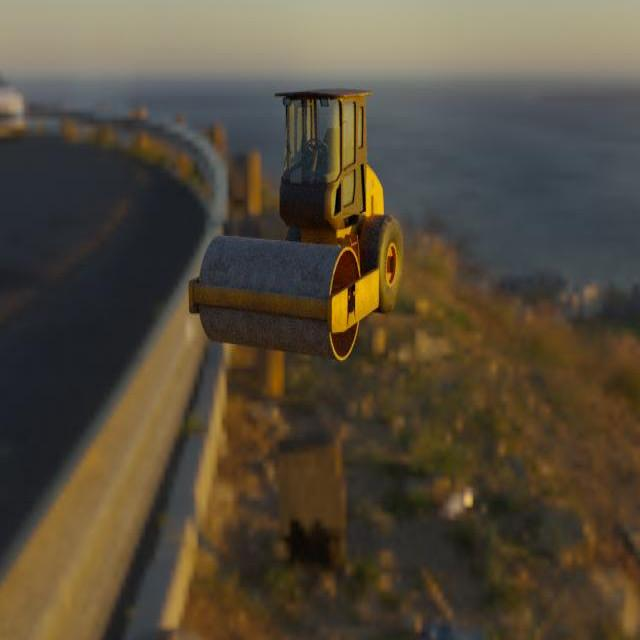Roller: (187, 87, 403, 360)
